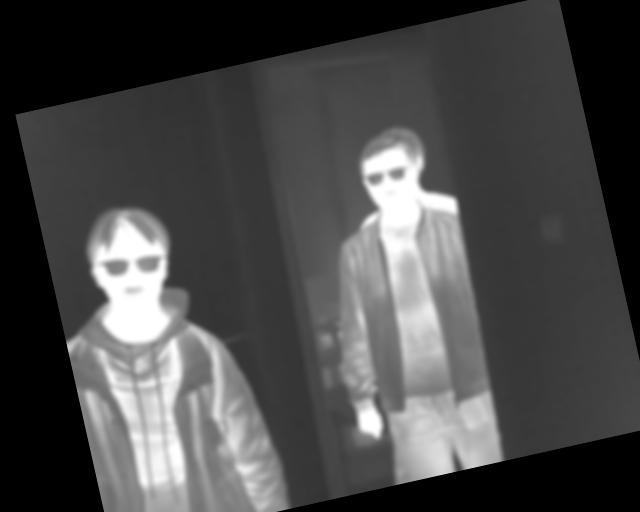face: (77, 197, 181, 320), (351, 126, 430, 217)
